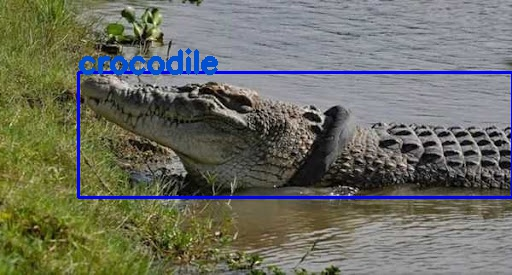crocodile: (78, 72, 512, 196)
